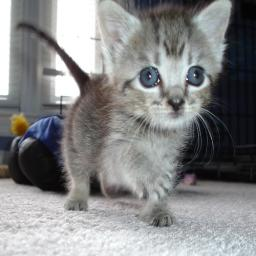catnose: (166, 97, 187, 115)
